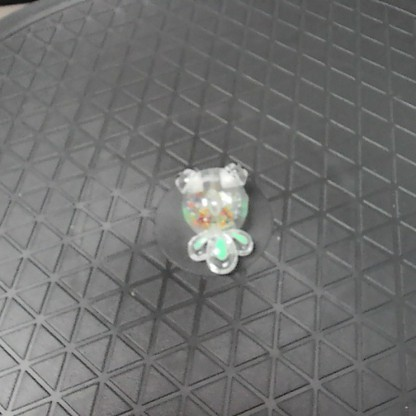whitefish: (170, 161, 262, 277)
